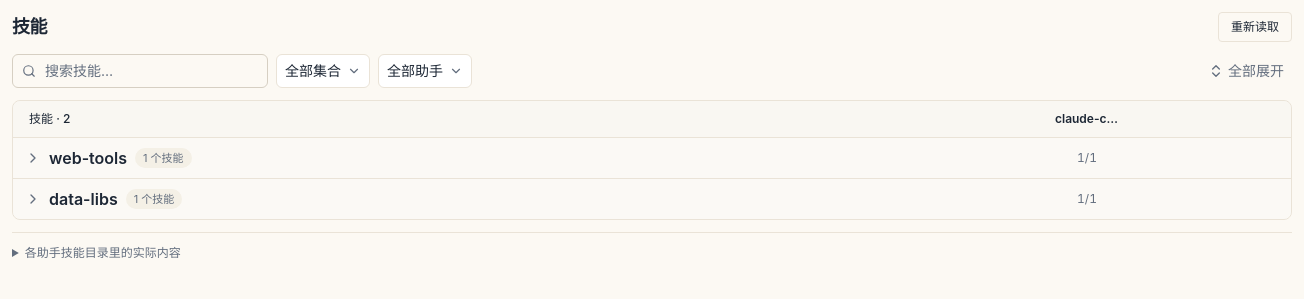
Scenario: 页内搜索：技能页 › 集合列表按名称/地址过滤卡片
Check: the element with test id "collection-card-web-tools" is shown, box [13, 138, 1291, 179]
Check: the element with test id "collection-card-data-libs" is shown, box [13, 179, 1291, 219]
Type "web" into the search field with test id "skills-search" at (140, 71), box [12, 54, 268, 88]
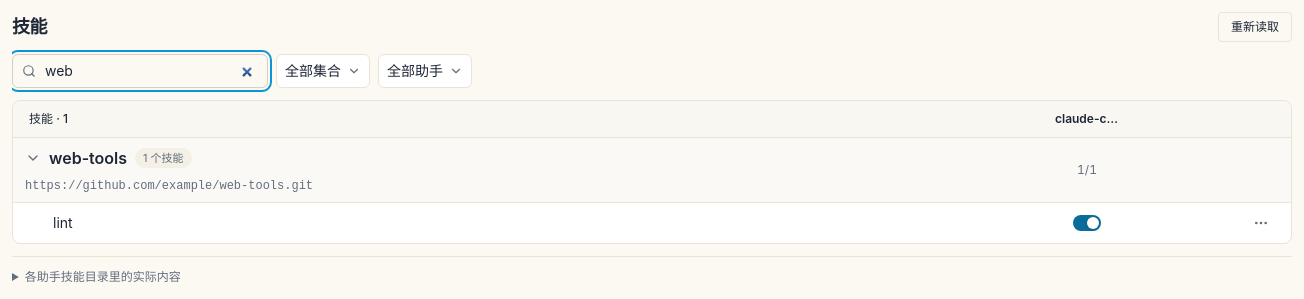
Check: the element with test id "collection-card-web-tools" is shown, box [13, 138, 1291, 243]
Check: the element with test id "collection-card-data-libs" is gone
